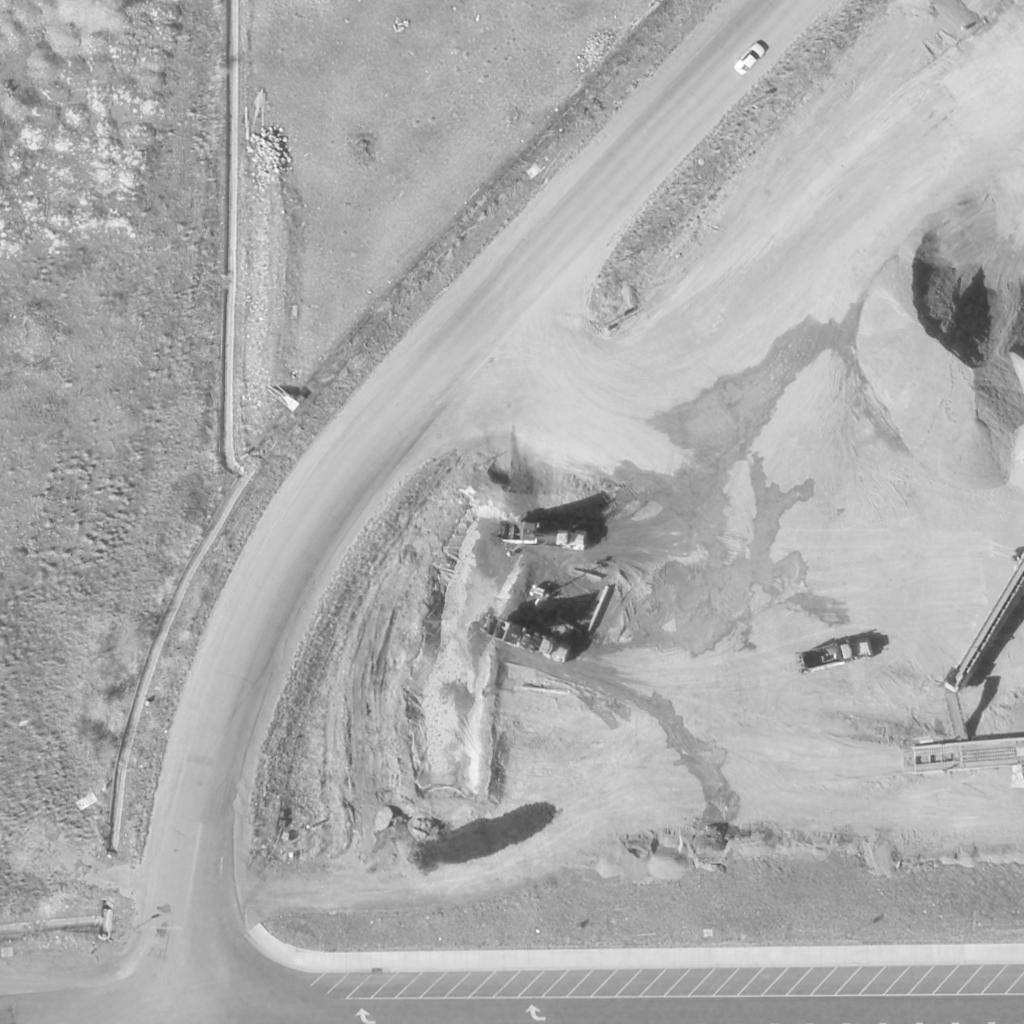vehicle: (483, 619, 573, 667), (793, 636, 879, 678), (502, 520, 590, 550), (733, 42, 767, 76)
